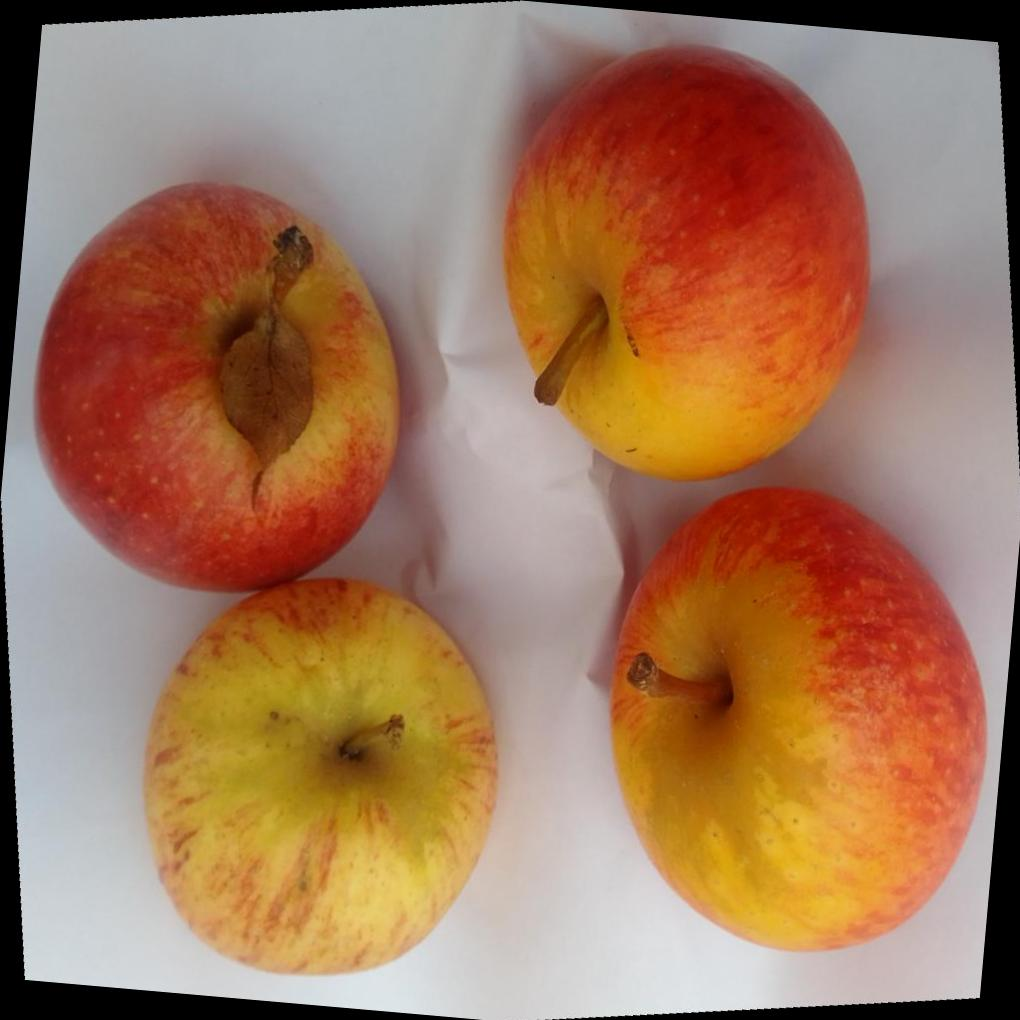FreshGuava: (32, 178, 497, 973), (607, 480, 986, 950), (501, 45, 867, 478)
